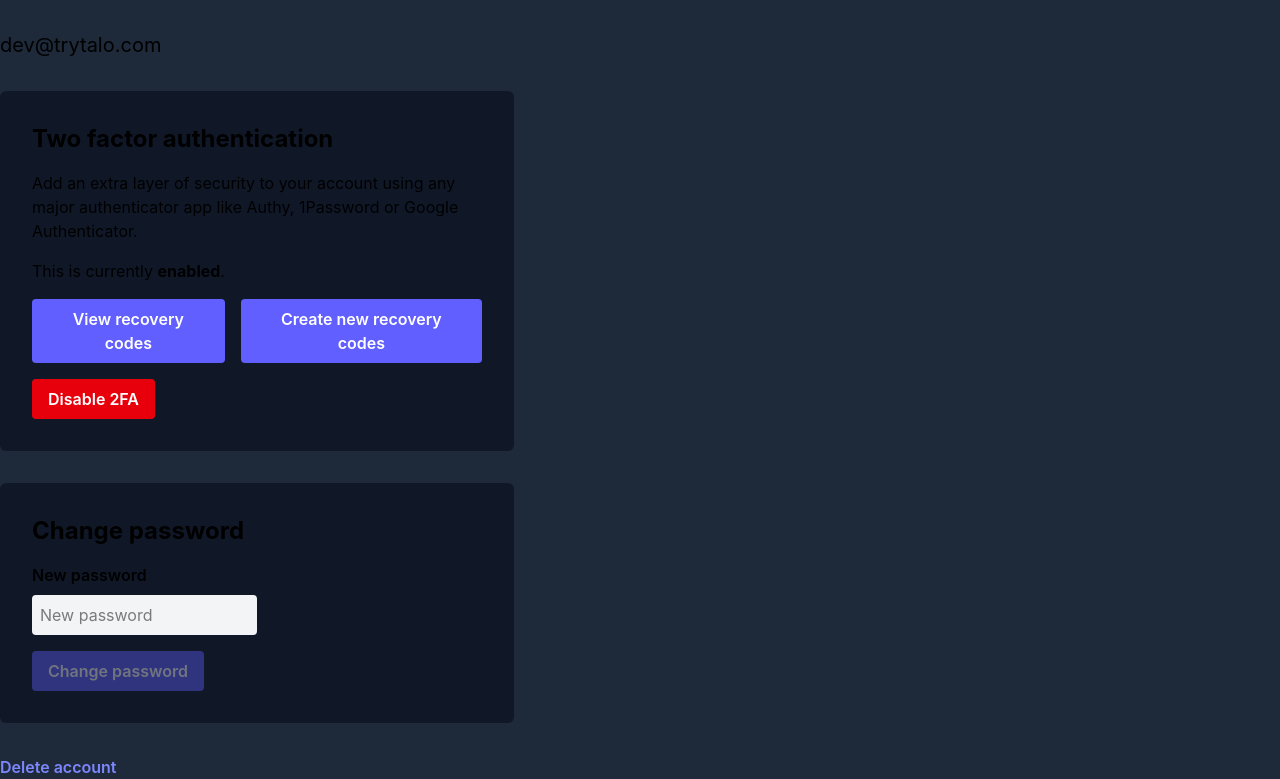
Test case: <Account /> › should open the delete account modal when the delete account button is clicked
The width and height of the screenshot is (1280, 779).
(page scrolled)
Click the button "Delete account": (58, 767) [0,755,116,778]
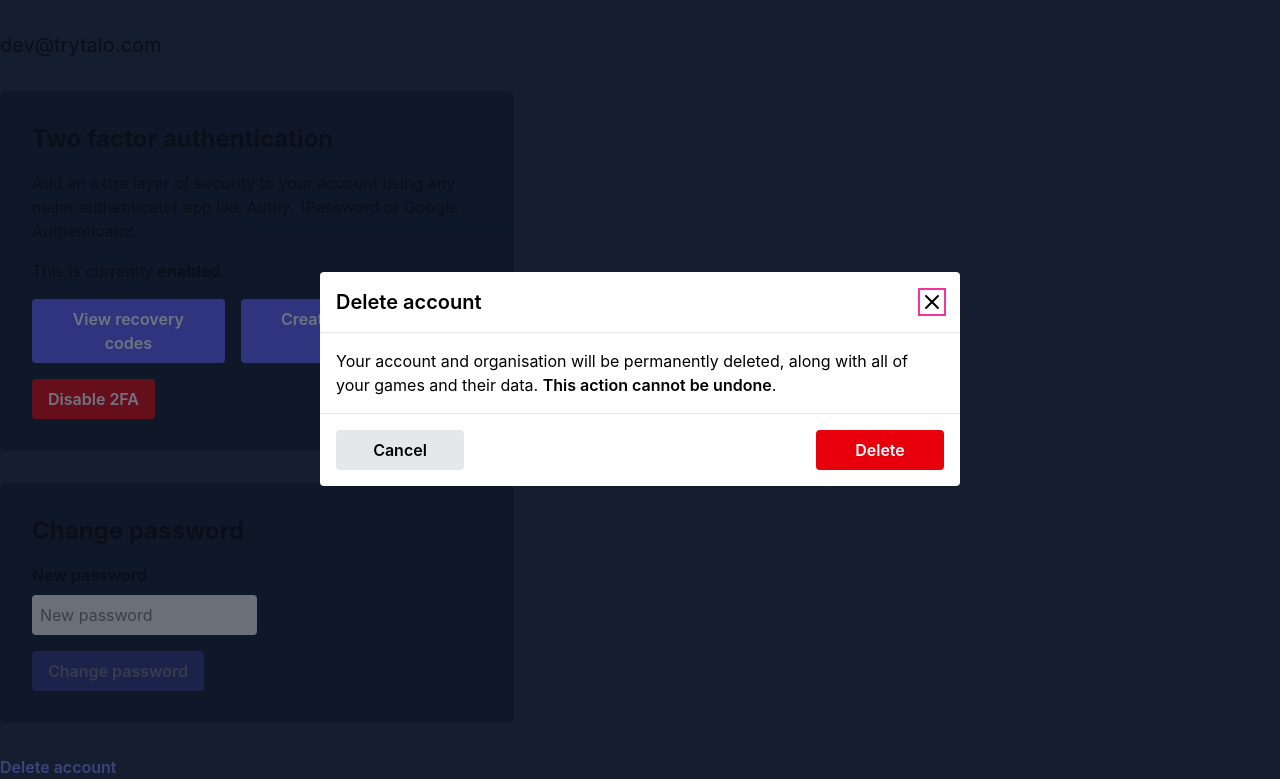
Expected: the text "Your account and organisation will be permanently deleted, along with all of your games and their data. " is shown, [336,351,908,395]
Expected: the button "Delete" is shown, [816,430,944,470]
